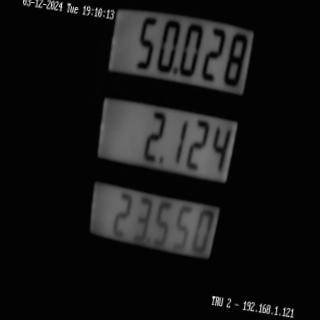screen: (74, 0, 263, 274)
